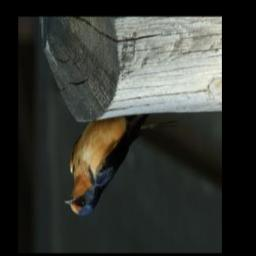Swallow: (63, 115, 180, 217)
